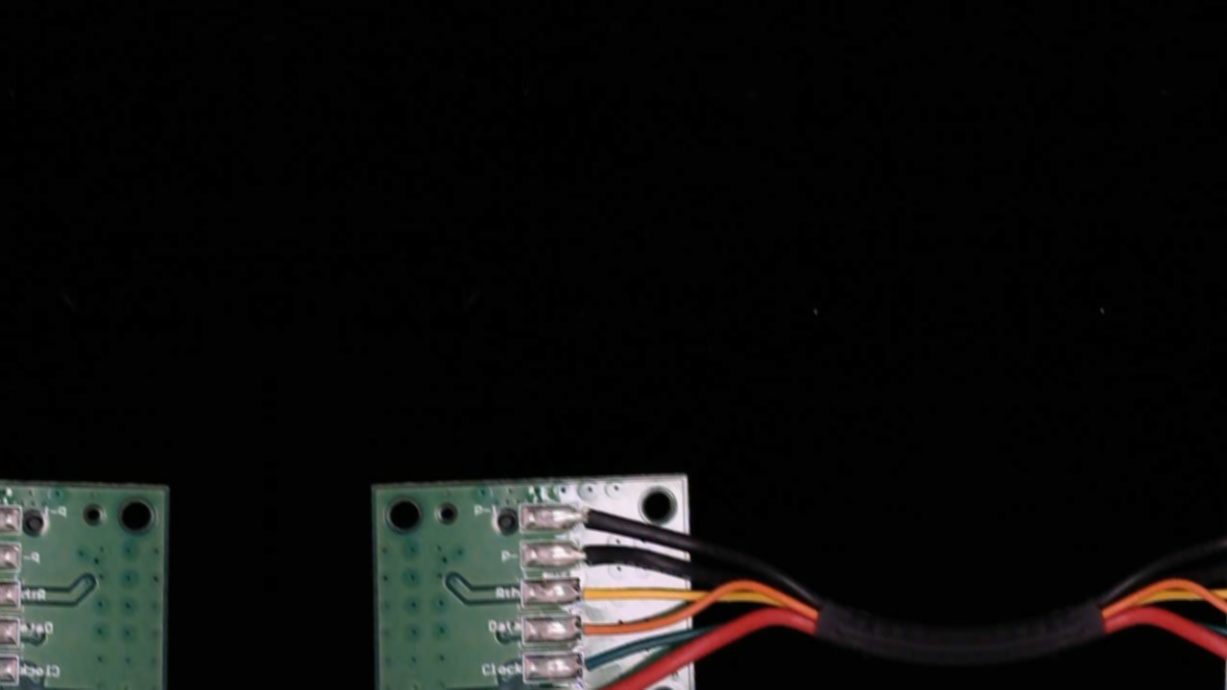Black: (560, 540, 626, 569)
Black1: (559, 501, 624, 533)
Green: (563, 649, 622, 682)
Orange: (558, 612, 627, 643)
Red: (564, 688, 631, 690)
Yellow: (559, 576, 630, 609)
